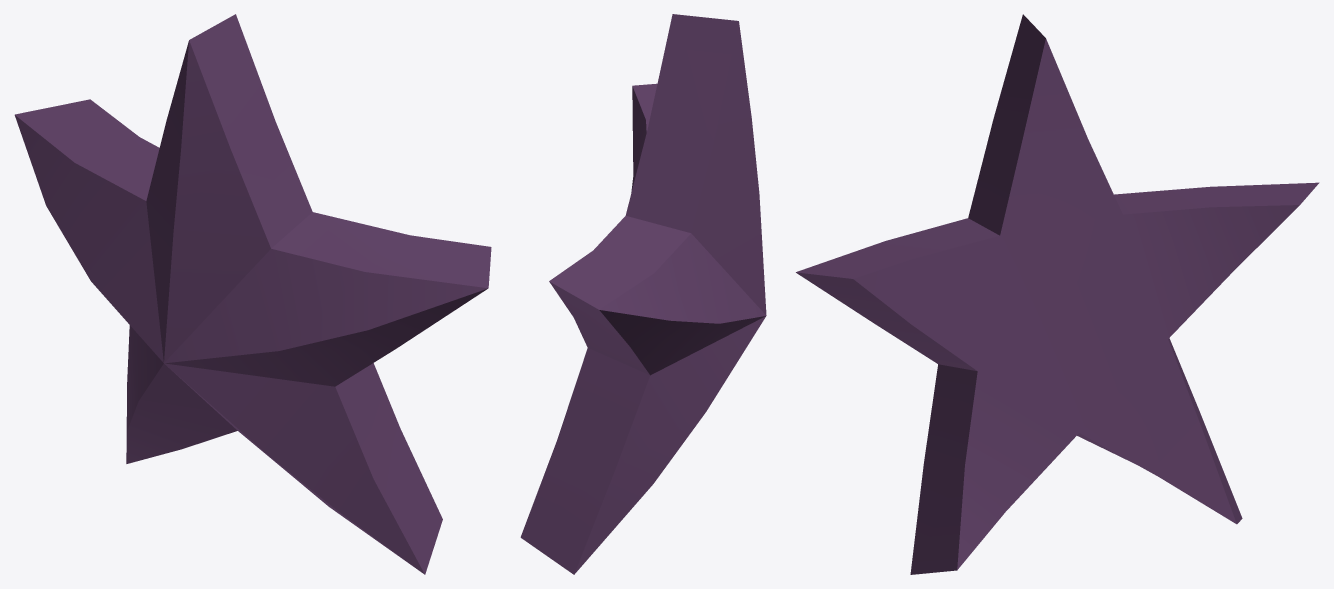
The model's file is TL5_Frame_Star.001 3.glb.
3 renders of one model, left to right at view 1: azimuth 30°, elevation 25°; view 2: azimuth 150°, elevation 25°; view 3: azimuth 270°, elevation 25°, orthographic. The views are drawn at different scales.
Parts seen in each view (by area): view 1: TL5_Frame_Star.001; view 2: TL5_Frame_Star.001; view 3: TL5_Frame_Star.001.
Boxes of the visible parts, x1,y1,x2,y2 form: TL5_Frame_Star.001: (14, 14, 491, 574); TL5_Frame_Star.001: (520, 14, 766, 574); TL5_Frame_Star.001: (796, 14, 1319, 574).
Bounding box in the file's own units: 0.2362 × 0.4708 × 0.4605.
